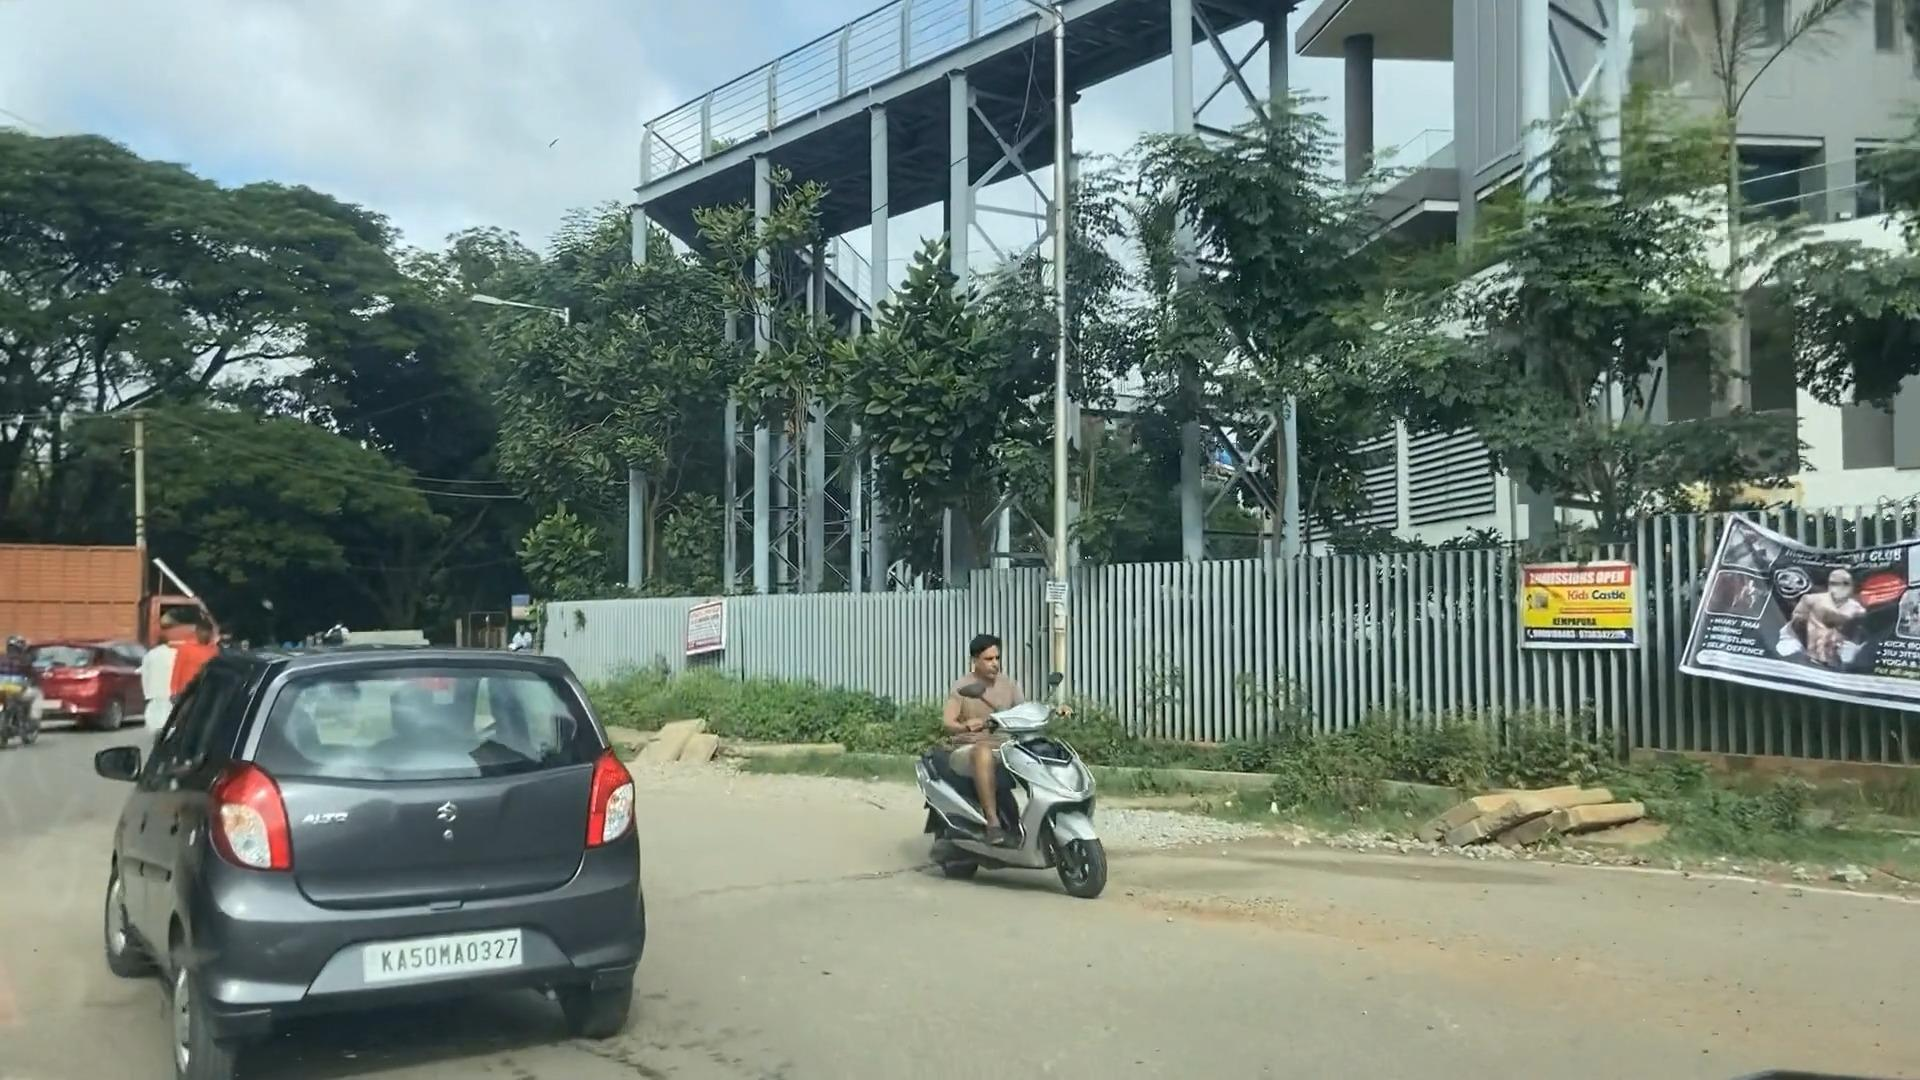LMV: (108, 653, 646, 1030), (918, 628, 1110, 905)
UnsurfacedRoad: (1153, 872, 1461, 1000)
